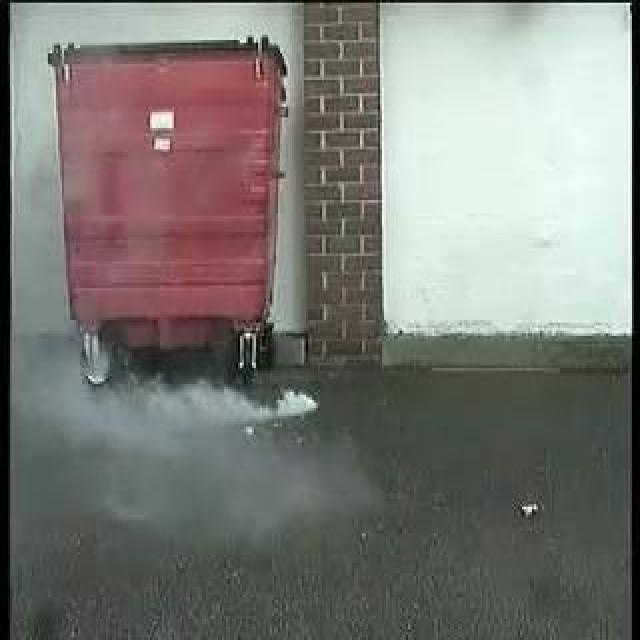Smoke: (80, 386, 318, 450)
